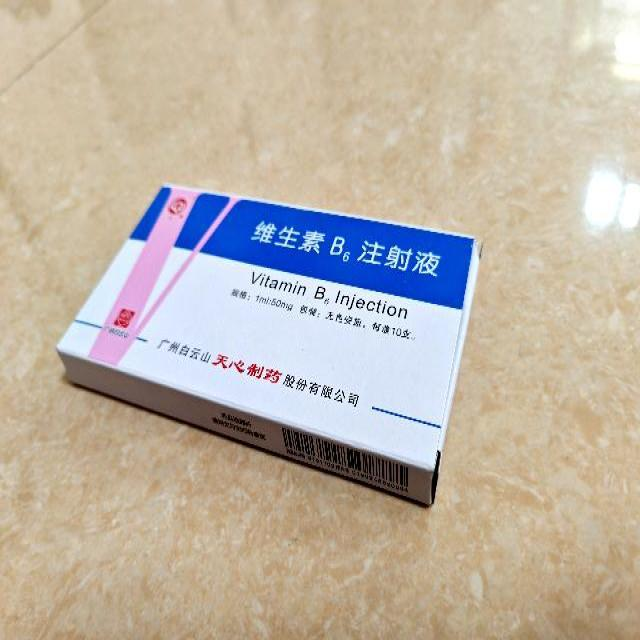box: (56, 184, 478, 508)
